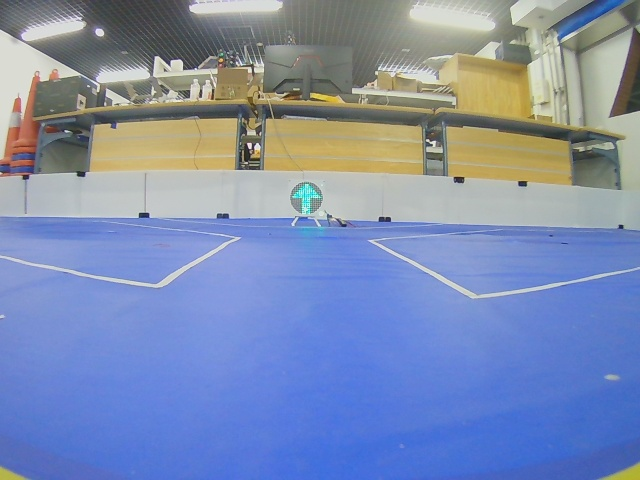straight_green: (290, 182, 323, 215)
